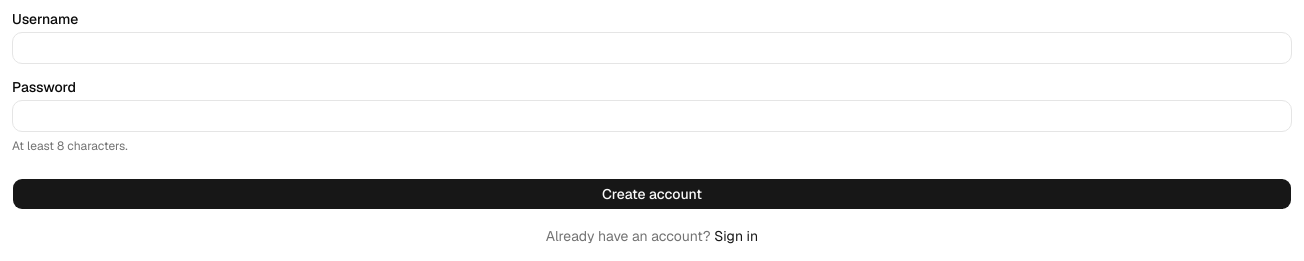
Scenario: RegisterForm › registration closed (403) › renders dedicated 'registration is closed' state on 403
Type "testuser" into the field labelled "Username" at (652, 48), box x1=12 y1=32 x2=1292 y2=64
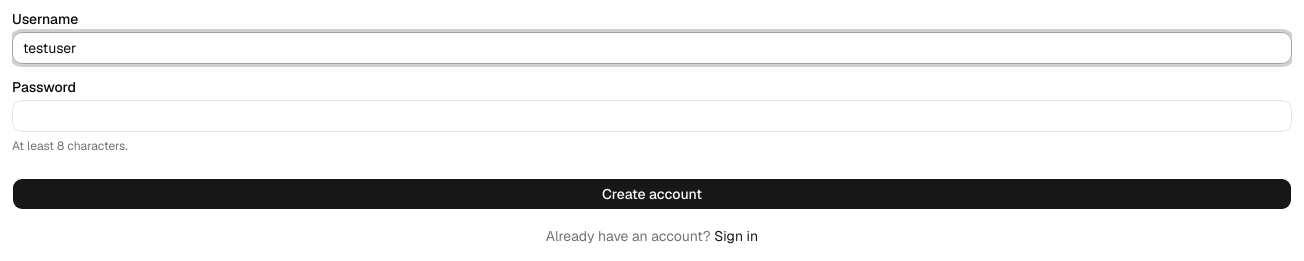
Type "password123" into the password field labelled "Password" at (652, 116), box x1=12 y1=100 x2=1292 y2=132
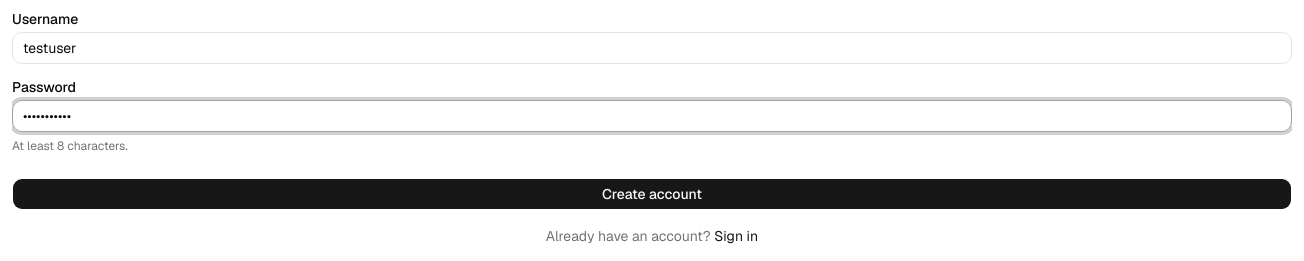
Click the button "Create account" at (652, 194), box x1=12 y1=178 x2=1292 y2=210
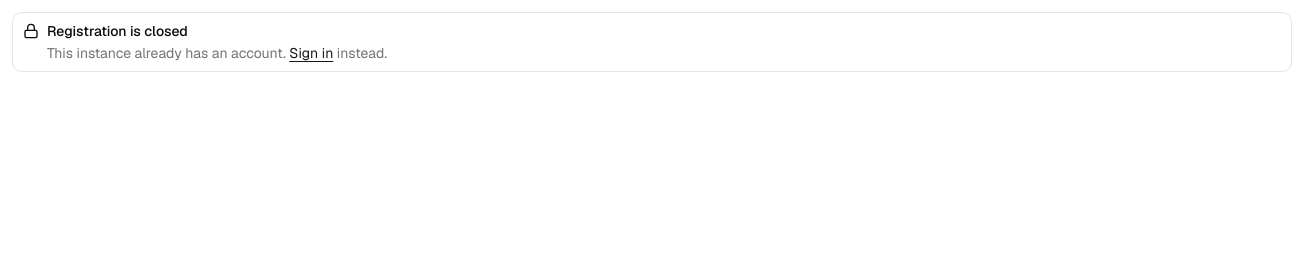
Now the text "Registration is closed" is shown, box x1=47 y1=22 x2=188 y2=40
